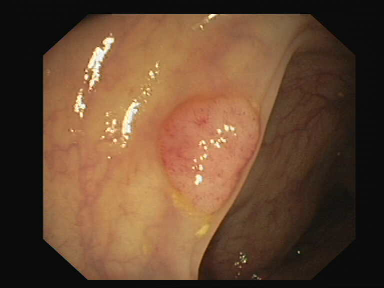polyp: (145, 71, 275, 230)
